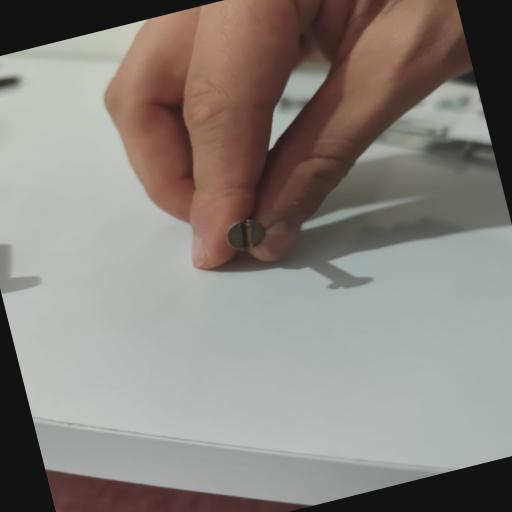Slotted: (220, 210, 269, 255)
